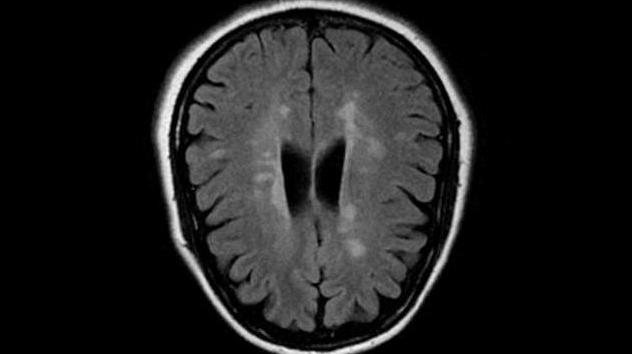Normal_Brain: (88, 1, 536, 354)
